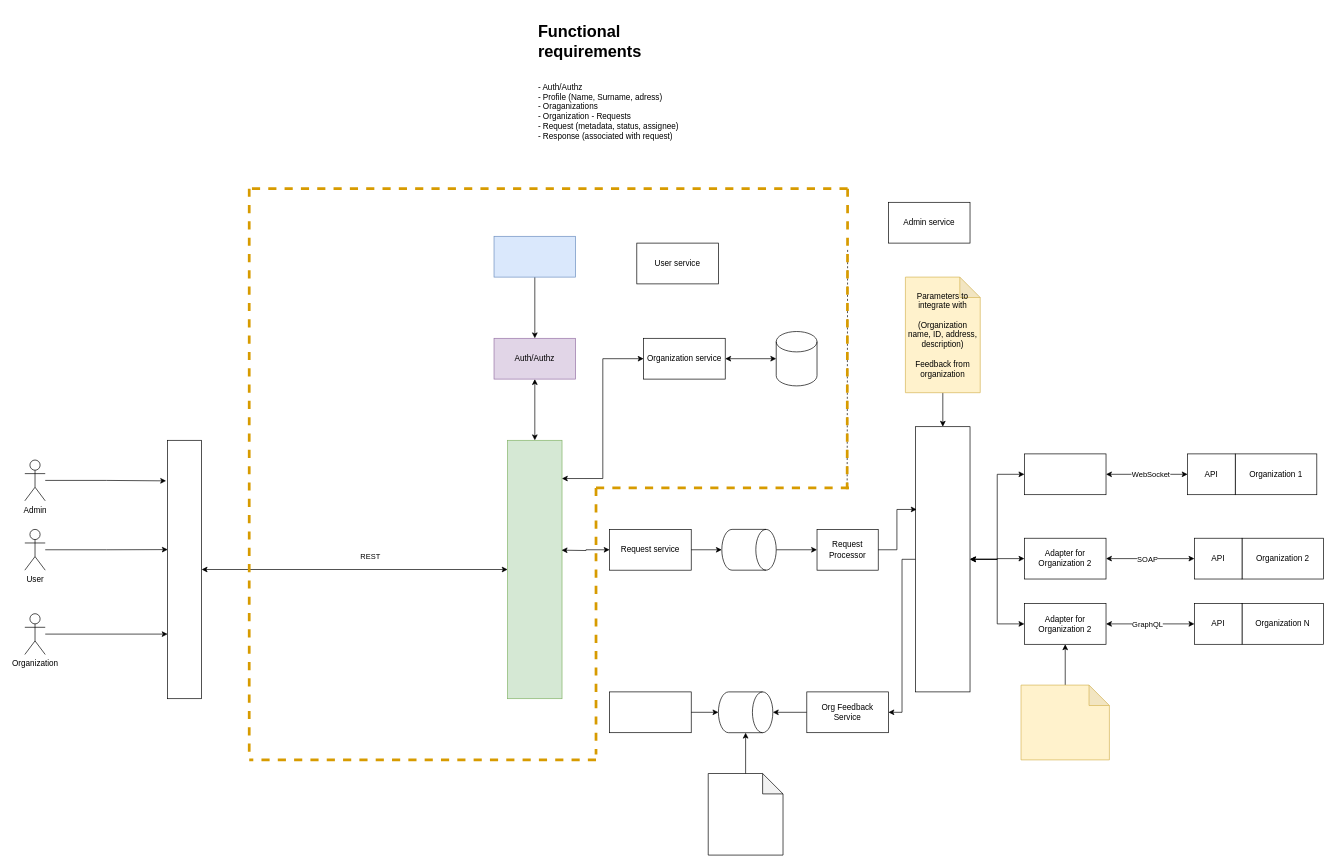
This 1336x867 diagram has some shape labels left out. The shapes that lost their labels are listed below. From the top down, each one's centre as x and y in pixels, then its label:
(534,256): Keyclock
(796,358): NoSQL
(1065,474): Adapter for Organization 1
(184,569): UI
(534,569): API Gateway
(942,559): Integration Layer (Private API Gateway)
(650,712): Request Manager Service
(1064,722): Our requests to Organization request Organization response to our response
(745,814): Request/Response feedback events
